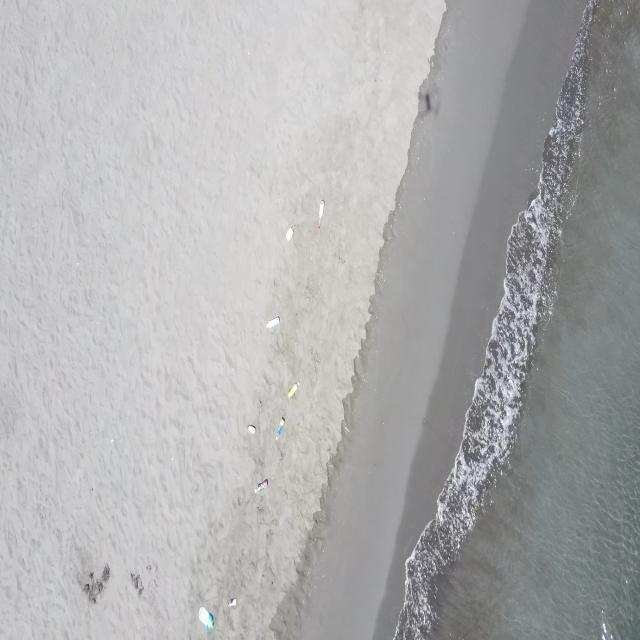plastic-bottle: (198, 605, 215, 631), (316, 198, 326, 230), (253, 476, 269, 495), (265, 314, 281, 330), (275, 416, 285, 441), (288, 381, 299, 400), (285, 223, 295, 243), (226, 596, 238, 608), (247, 423, 257, 435)
